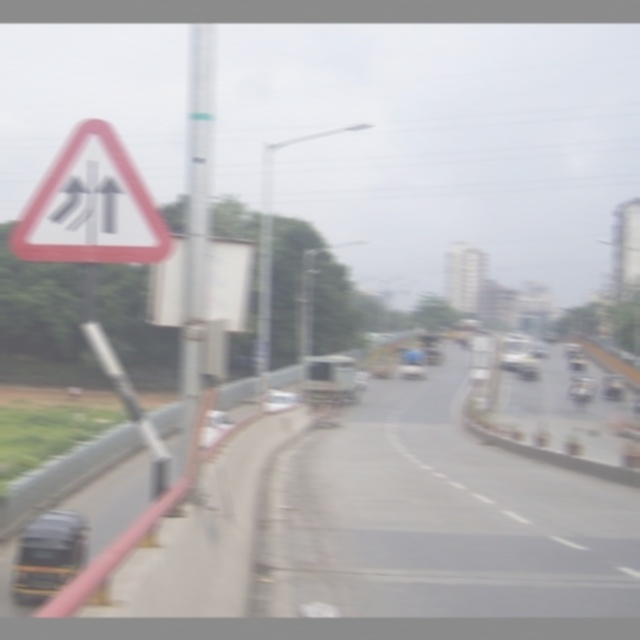Merge_Traffic_Ahead: (28, 107, 152, 272)
